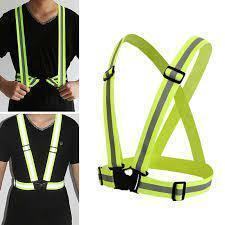Vest: (11, 114, 69, 192)
